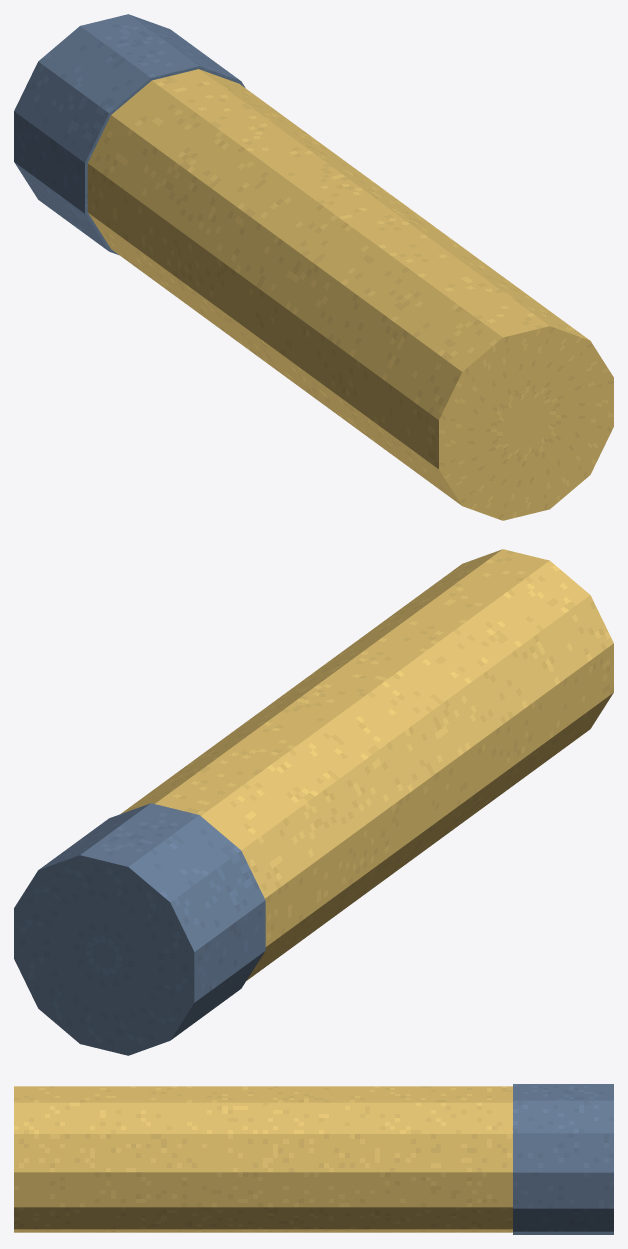
Rendered from adrenaline_injector.glb.
The picture shows the model from 3 angles, top to bottom: view 1: azimuth 30°, elevation 25°; view 2: azimuth 150°, elevation 25°; view 3: azimuth 270°, elevation 25°; orthographic projection. The views are drawn at different scales.
Parts seen in each view (by area): view 1: block_trainer-shaped housing, block_protective end; view 2: block_trainer-shaped housing, block_protective end; view 3: block_trainer-shaped housing, block_protective end.
Part boxes in pixels (left/top/right/bottom): block_trainer-shaped housing: left=87, top=69, right=613, bottom=520; block_protective end: left=14, top=14, right=245, bottom=254; block_trainer-shaped housing: left=121, top=549, right=613, bottom=980; block_protective end: left=14, top=803, right=265, bottom=1055; block_trainer-shaped housing: left=14, top=1086, right=512, bottom=1232; block_protective end: left=513, top=1084, right=613, bottom=1234.
Bounding box in the file's own units: 0.01 × 0.01 × 0.0405.
1 material, 1 textured.
